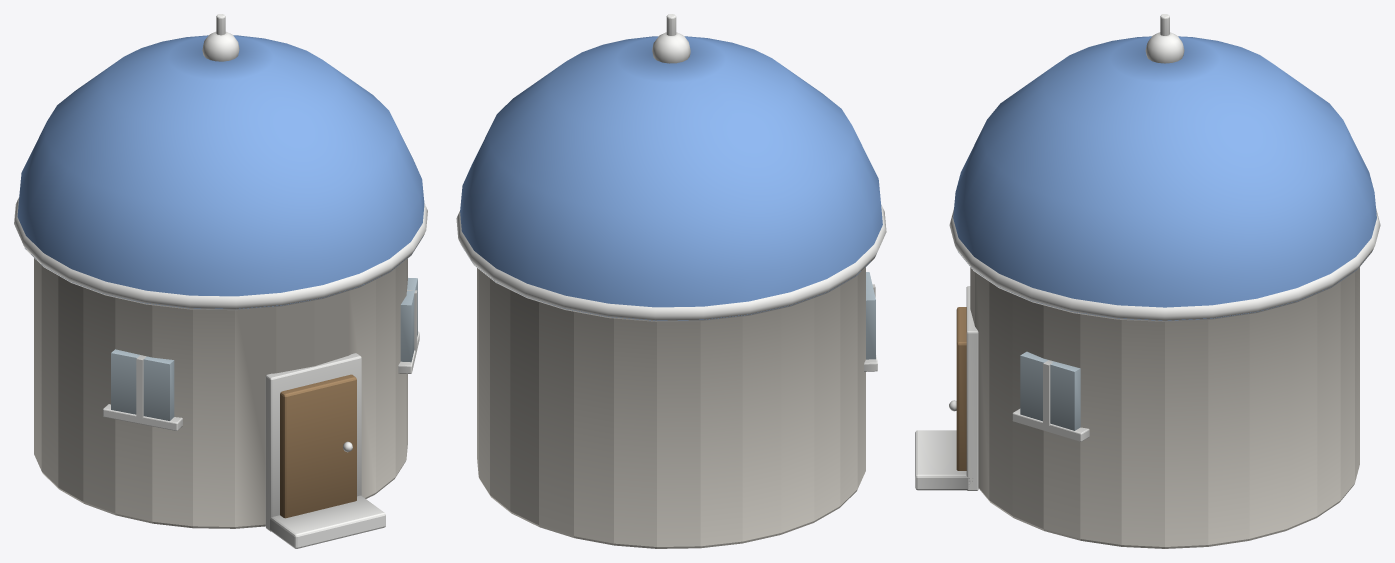
Rendered from roundHouse.glb.
3 views of the same model, side by side, from view 1: azimuth 30°, elevation 25°; view 2: azimuth 150°, elevation 25°; view 3: azimuth 270°, elevation 25° (orthographic). The views are drawn at different scales.
Parts seen in each view (by area): view 1: RoundHouse; view 2: RoundHouse; view 3: RoundHouse.
Part boxes in pixels (left/top/right/bottom): RoundHouse: left=14, top=14, right=427, bottom=548; RoundHouse: left=456, top=14, right=886, bottom=548; RoundHouse: left=915, top=14, right=1380, bottom=548.
Bounding box in the file's own units: 3.54 × 4.11 × 3.82.
